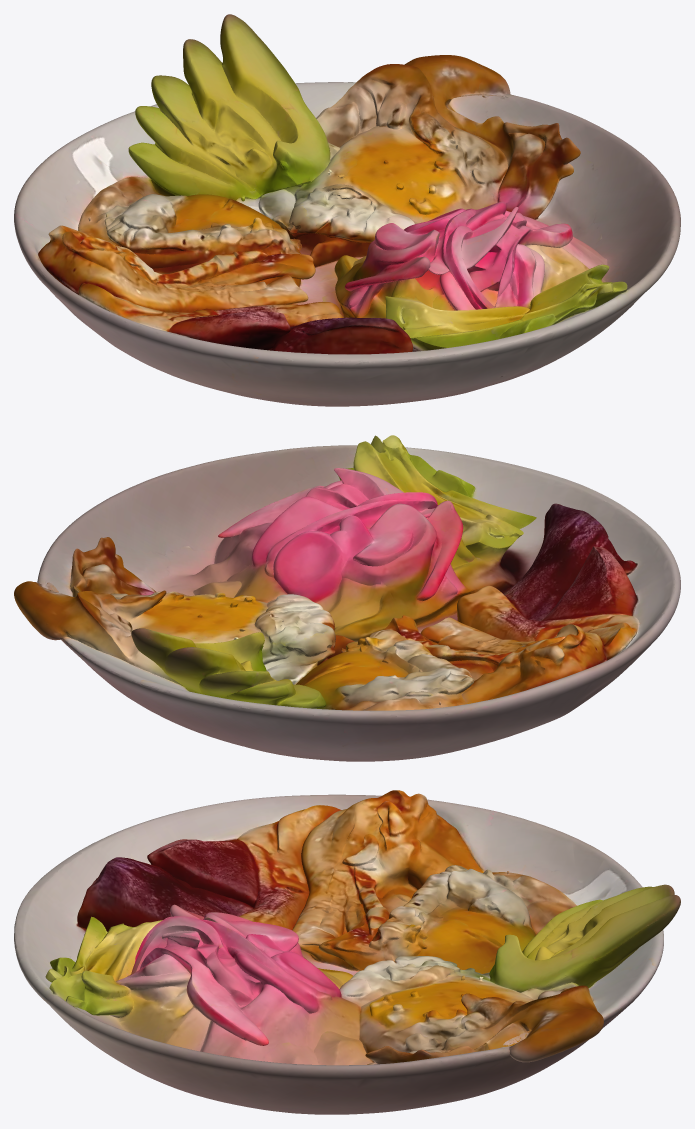
The model's file is mangu.glb.
3 renders of one model, top to bottom at view 1: azimuth 30°, elevation 25°; view 2: azimuth 150°, elevation 25°; view 3: azimuth 270°, elevation 25°, orthographic. The views are drawn at different scales.
Visible parts, largest first — view 1: model; view 2: model; view 3: model.
Part boxes in pixels (x1,y1,x2,y2): model: (14,14,680,406); model: (14,435,680,761); model: (14,790,680,1114).
Size of the model in its own units: 1.85 by 0.5501 by 1.9.
Materials: 1 (1 with a texture image).
